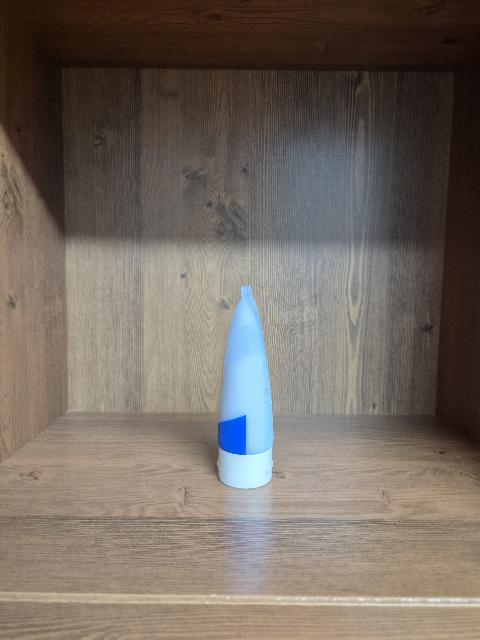handcream: (217, 285, 274, 489)
